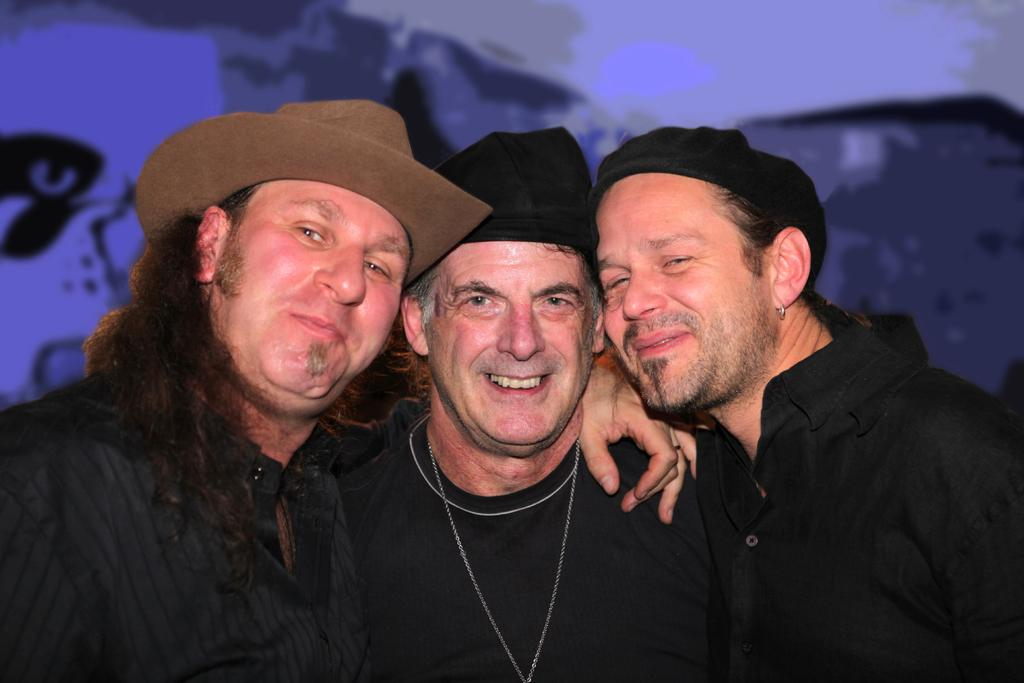Hat: (131, 94, 491, 288)
